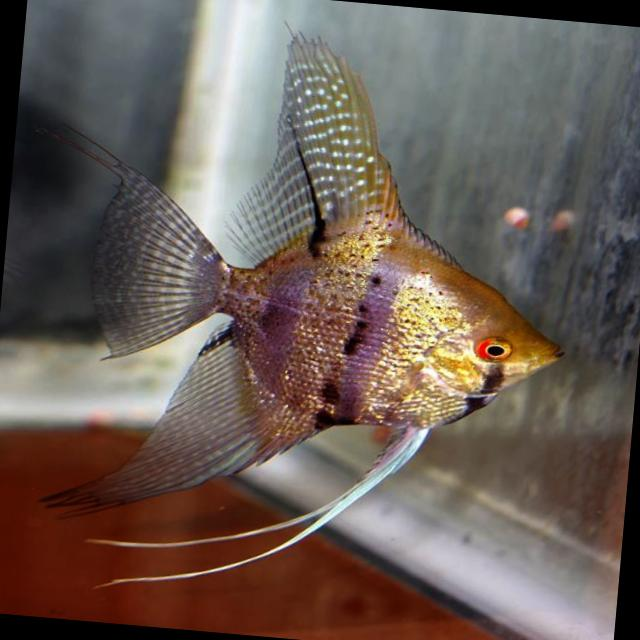AngelFish: (37, 13, 590, 562)
